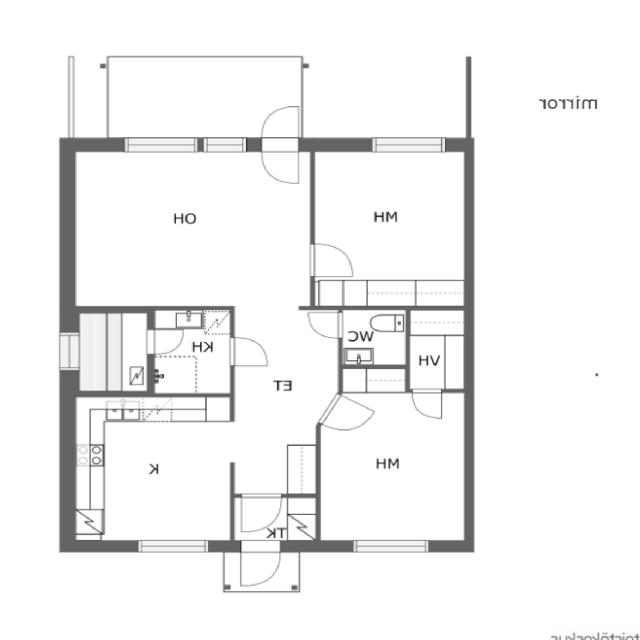door: (152, 314, 256, 392), (253, 102, 306, 189), (228, 537, 288, 591), (231, 490, 290, 537), (304, 238, 359, 282), (326, 392, 380, 434), (224, 332, 276, 373), (140, 325, 189, 360), (302, 308, 349, 343), (408, 386, 447, 423)
window: (361, 131, 455, 157), (343, 535, 438, 557), (118, 133, 205, 156), (128, 536, 218, 555), (54, 328, 84, 376), (196, 132, 252, 154)
zone: (67, 147, 317, 305), (310, 144, 470, 306), (317, 379, 471, 546), (72, 394, 234, 547), (150, 309, 233, 396), (73, 309, 153, 394), (407, 308, 469, 390), (339, 308, 408, 366), (142, 314, 202, 378)
